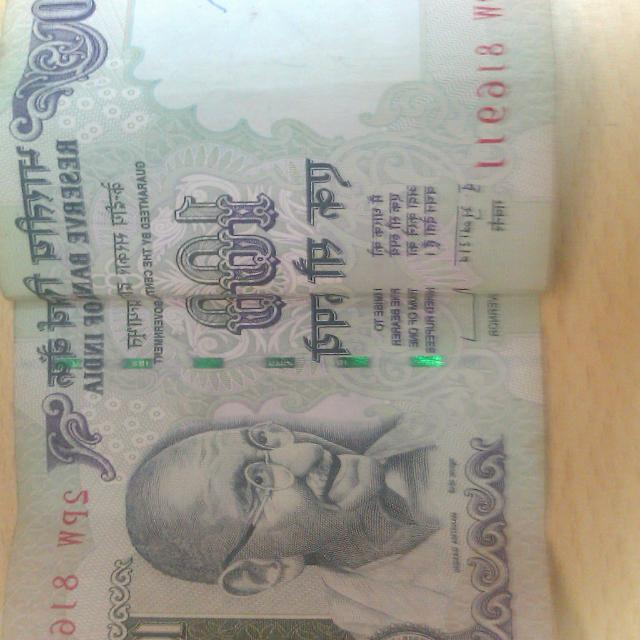50rs: (9, 0, 570, 640)
